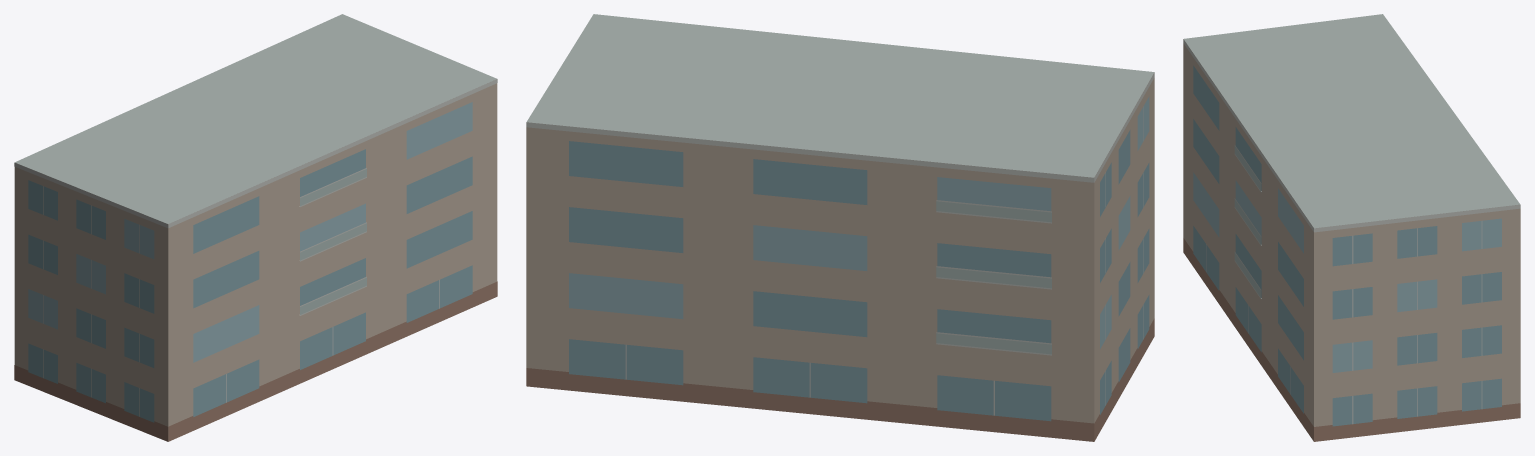
Rendered from survey-upis-33002113.glb.
3 renders of one model, left to right at view 1: azimuth 30°, elevation 25°; view 2: azimuth 150°, elevation 25°; view 3: azimuth 270°, elevation 25°, orthographic. The views are drawn at different scales.
Visible parts, largest first — view 1: survey-upis-33002113.tmp; view 2: survey-upis-33002113.tmp; view 3: survey-upis-33002113.tmp.
Part boxes in pixels (x1,y1,x2,y2): survey-upis-33002113.tmp: (14, 14, 497, 441); survey-upis-33002113.tmp: (526, 14, 1154, 441); survey-upis-33002113.tmp: (1183, 14, 1520, 441).
Size of the model in its own units: 27.35 by 12.7 by 18.18.
